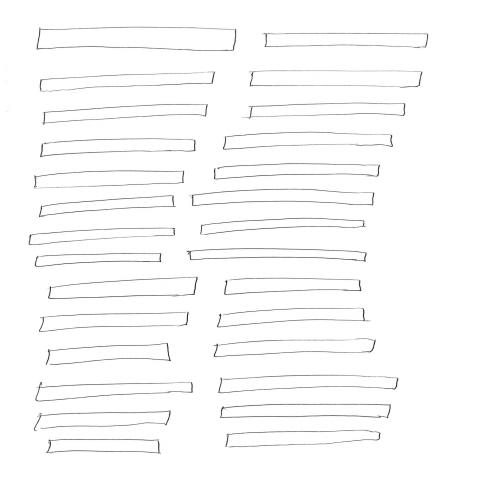Textbox: (36, 27, 238, 53), (40, 71, 217, 93), (218, 375, 400, 395), (43, 104, 209, 125), (48, 277, 199, 300), (35, 382, 194, 403), (213, 339, 377, 359), (223, 132, 395, 151), (38, 312, 190, 333), (40, 139, 197, 159), (250, 71, 423, 89), (192, 189, 375, 206), (217, 308, 367, 328), (39, 196, 175, 218), (200, 218, 366, 236), (226, 430, 382, 449), (46, 343, 172, 366), (35, 411, 172, 432), (34, 171, 185, 190), (220, 404, 393, 420), (214, 164, 381, 180), (29, 228, 177, 246), (264, 33, 430, 49), (249, 103, 406, 119), (189, 249, 368, 263), (224, 278, 362, 296), (46, 439, 161, 455), (35, 254, 162, 268)
